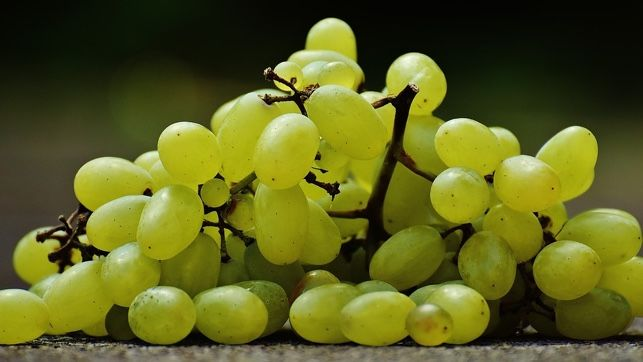Green grapes: (311, 27, 643, 336), (27, 48, 342, 346)
